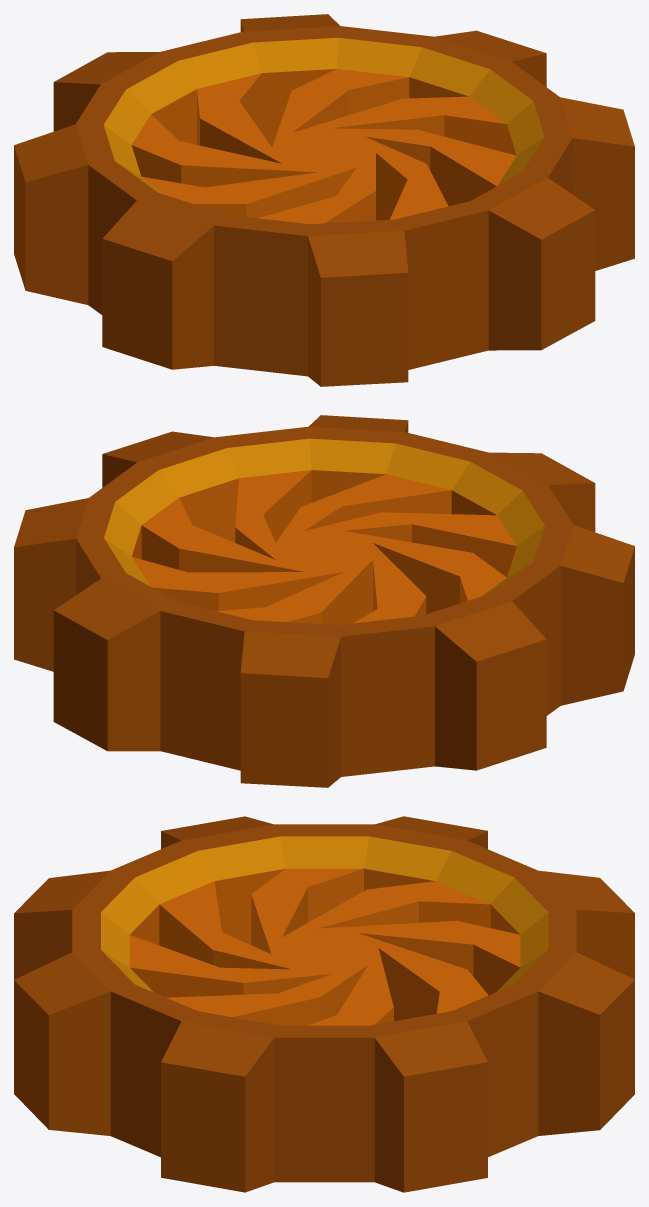
The model's file is obj_gear03_base.gltf.
3 views of the same model, one above another, from view 1: azimuth 30°, elevation 25°; view 2: azimuth 150°, elevation 25°; view 3: azimuth 270°, elevation 25° (orthographic). The views are drawn at different scales.
Parts seen in each view (by area): view 1: obj_gear03_base; view 2: obj_gear03_base; view 3: obj_gear03_base.
Boxes of the visible parts, bbox=[...] form: obj_gear03_base: bbox=[14, 14, 634, 386]; obj_gear03_base: bbox=[14, 415, 634, 787]; obj_gear03_base: bbox=[14, 816, 634, 1192].
Size of what is drawn, in the model's own units: 0.2914 by 0.0749 by 0.2914.
1 material, 1 textured.
